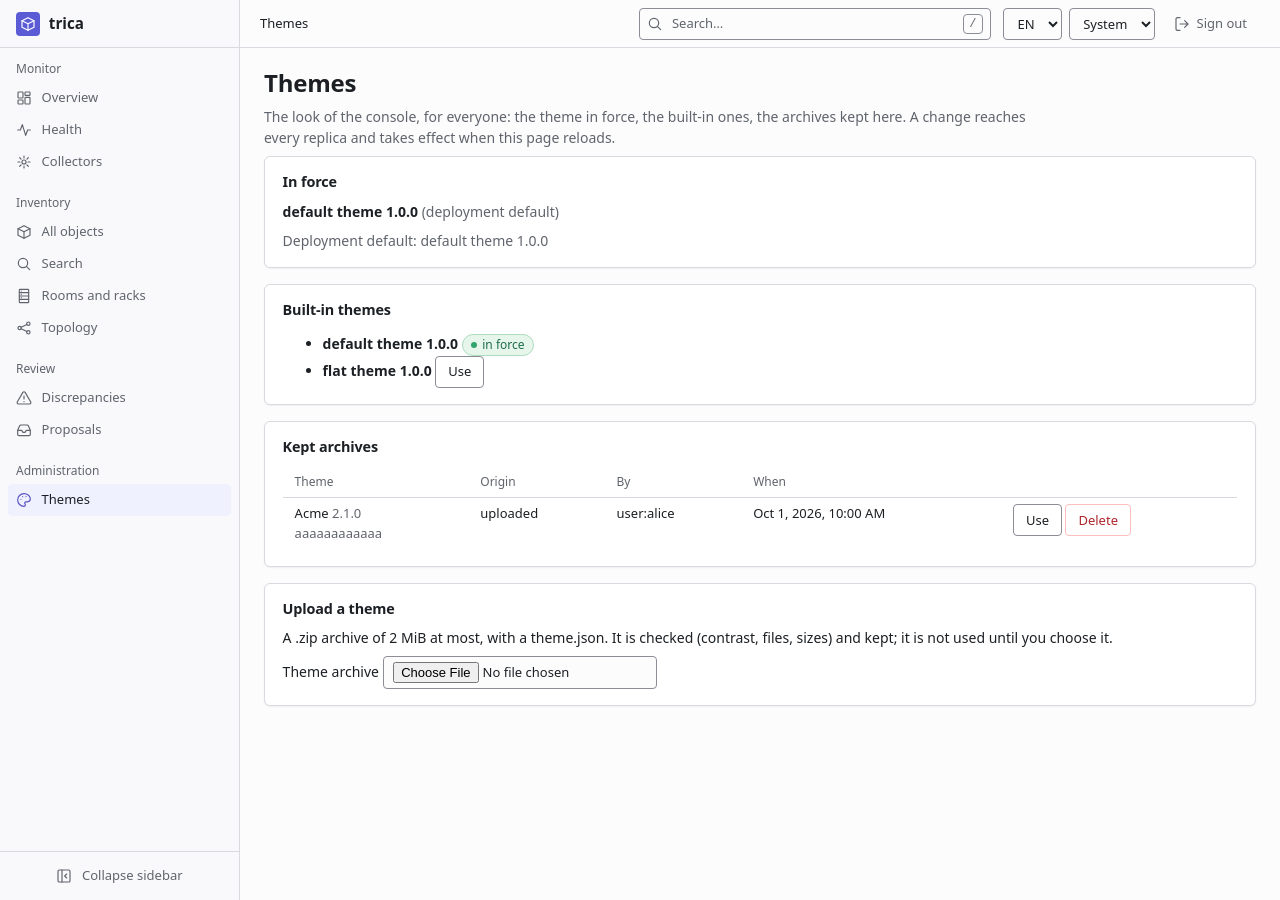
Test: the themes page › shows the server's refusal when a choice is refused
Click the button named "Use flat".
click(460, 372)  # box left=435, top=356, right=484, bottom=388
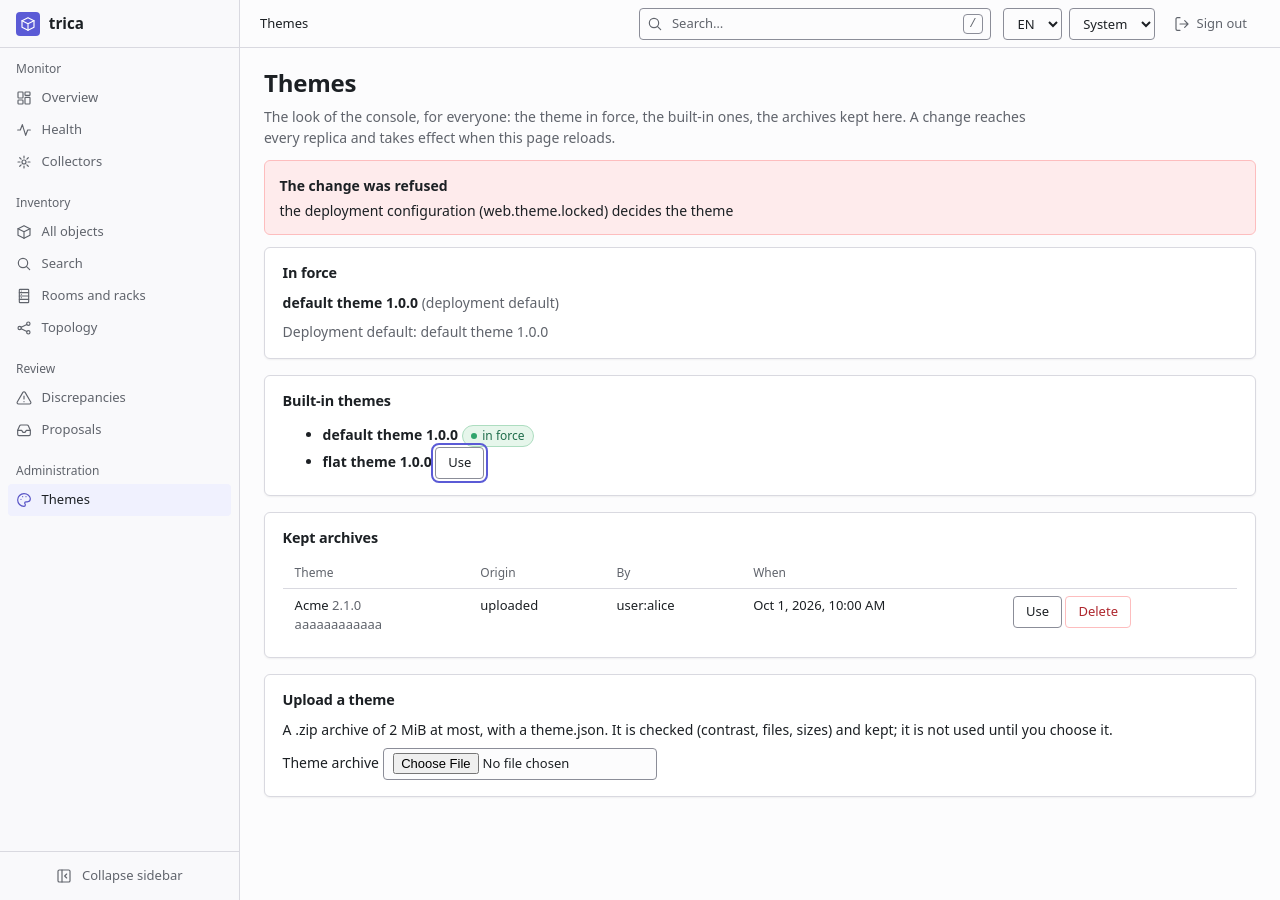
Check: the message shows "web.theme.locked", box left=279, top=201, right=733, bottom=220
